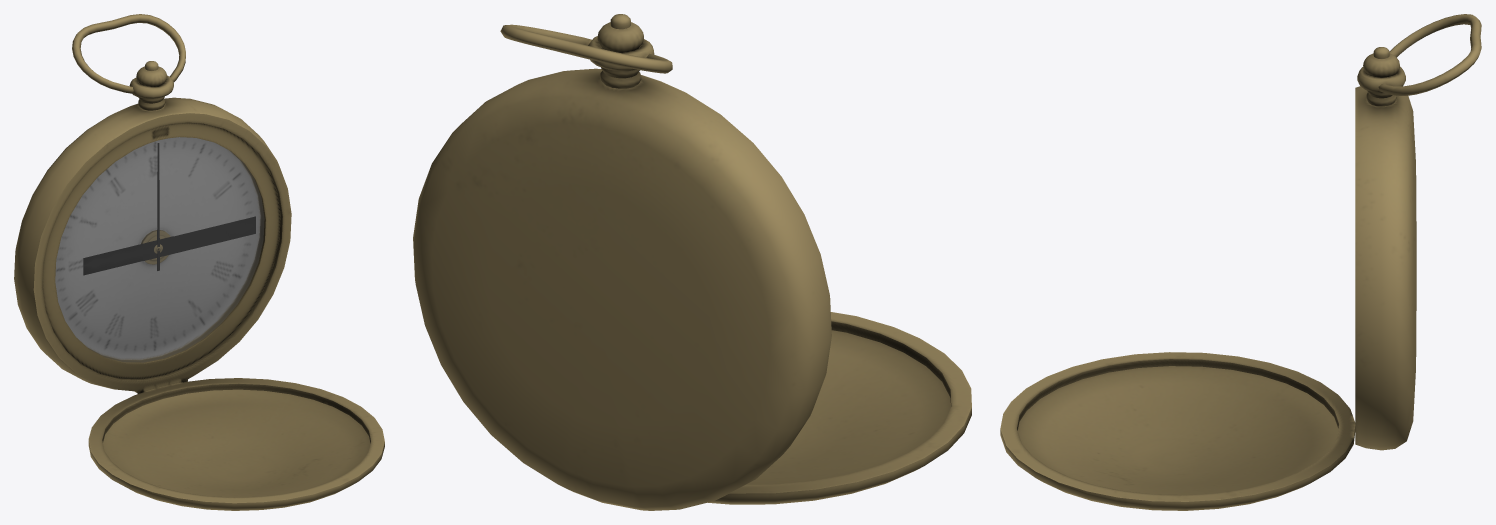
File: Pocket_Watch_02.fbx
3 views of the same model, side by side, from view 1: azimuth 30°, elevation 25°; view 2: azimuth 150°, elevation 25°; view 3: azimuth 270°, elevation 25° (orthographic). The views are drawn at different scales.
Parts seen in each view (by area): view 1: Base, Cover; view 2: Base, Cover; view 3: Cover, Base.
Part boxes in pixels (bbox=[...]): Base: bbox=[14, 14, 291, 393]; Cover: bbox=[88, 378, 384, 510]; Base: bbox=[413, 14, 831, 510]; Cover: bbox=[708, 312, 971, 504]; Cover: bbox=[1000, 352, 1355, 510]; Base: bbox=[1355, 14, 1481, 450].
Bounding box in the file's own units: 7.99 × 10.3 × 10.45.
Materials: 2 (1 with a texture image).
